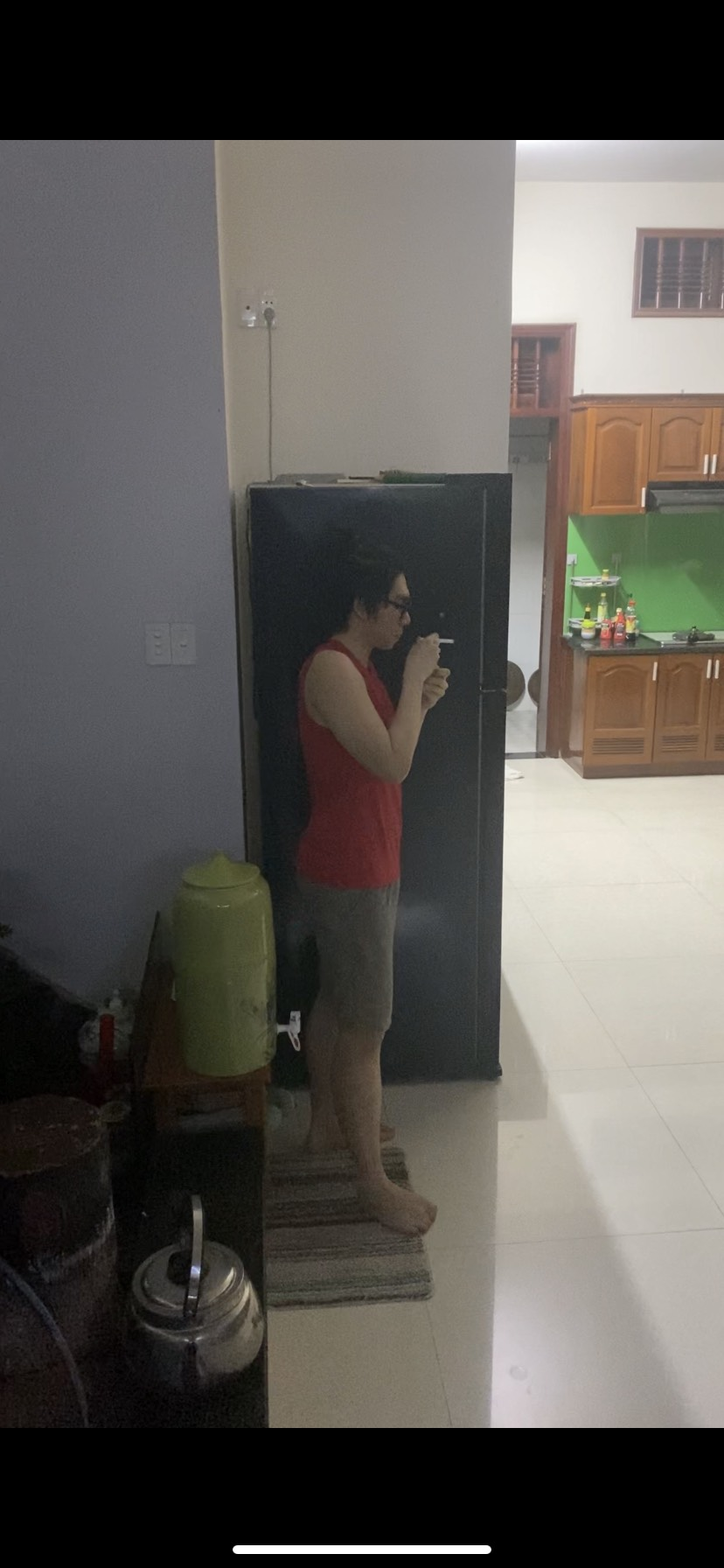cigarette: (437, 635, 457, 647)
person: (284, 548, 449, 1256)
